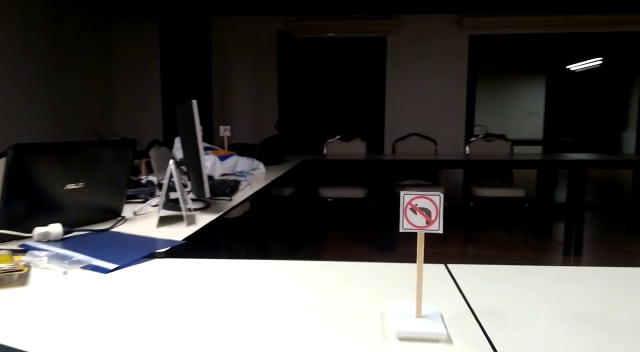sola_donulmez: (401, 190, 442, 234)
